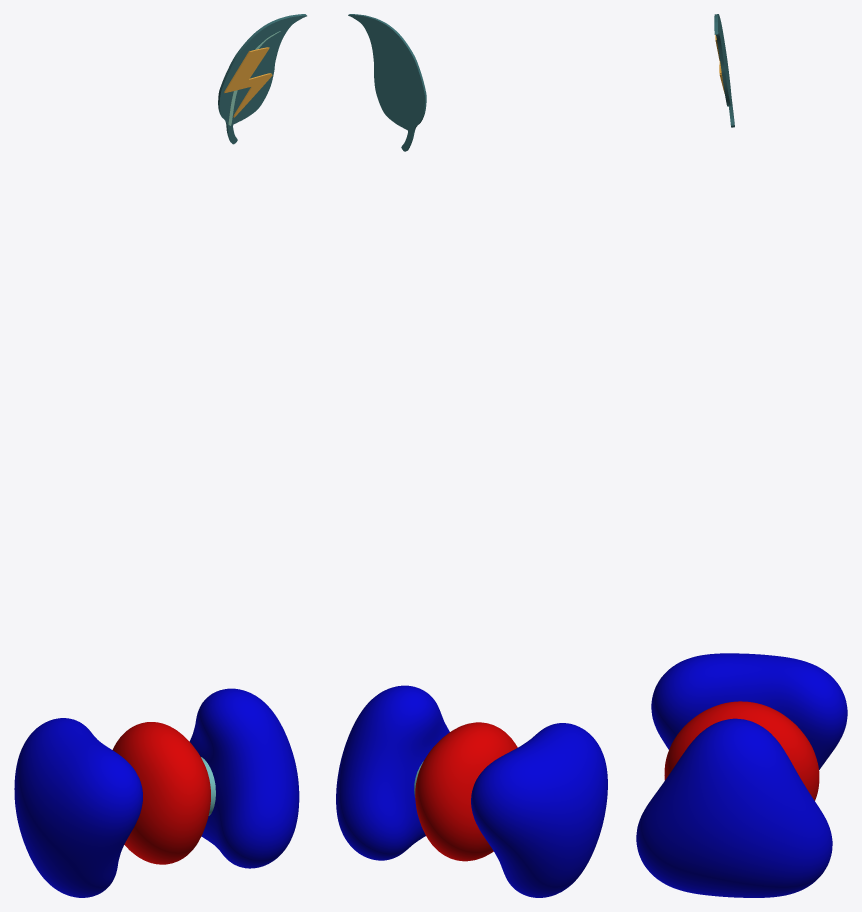
File: c2h6_sim_en.glb
3 renders of one model, left to right at view 1: azimuth 30°, elevation 25°; view 2: azimuth 150°, elevation 25°; view 3: azimuth 270°, elevation 25°, orthographic. The views are drawn at different scales.
Visible parts, largest first — view 1: c2h6_sim_en, path182, path186; view 2: c2h6_sim_en, path182; view 3: c2h6_sim_en, path182.
Part boxes in pixels (<box>): c2h6_sim_en: <box>14,688,299,897</box>; path182: <box>218,14,306,144</box>; path186: <box>224,47,272,117</box>; c2h6_sim_en: <box>336,685,607,897</box>; path182: <box>348,14,426,151</box>; c2h6_sim_en: <box>636,653,847,897</box>; path182: <box>714,14,734,127</box>.
Bounding box in the file's own units: 1.88 × 5.71 × 1.2.
